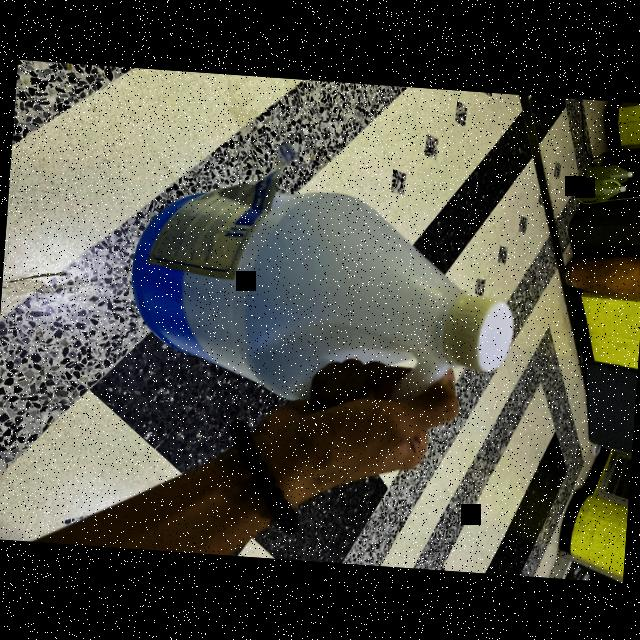chemical_plastic_gallon: (118, 146, 544, 456)
